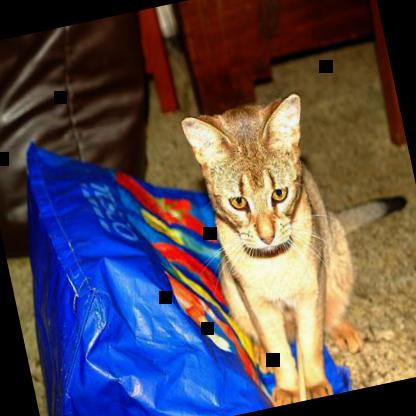cat: (178, 73, 415, 413)
